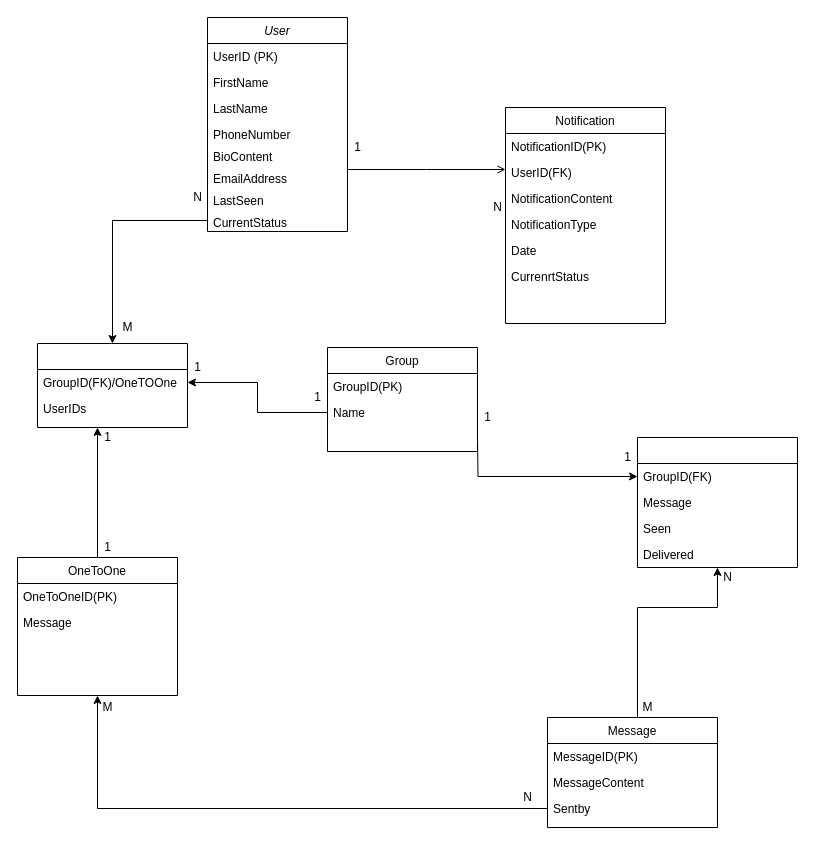
Some shapes in this 815 by 845 pixel diagram are drawn without their labels. Here are the shapes that lost their labels. From the top down, the box of each, then its label:
(36, 342, 188, 428): MultiUsers
(636, 436, 798, 568): GroupChatting
